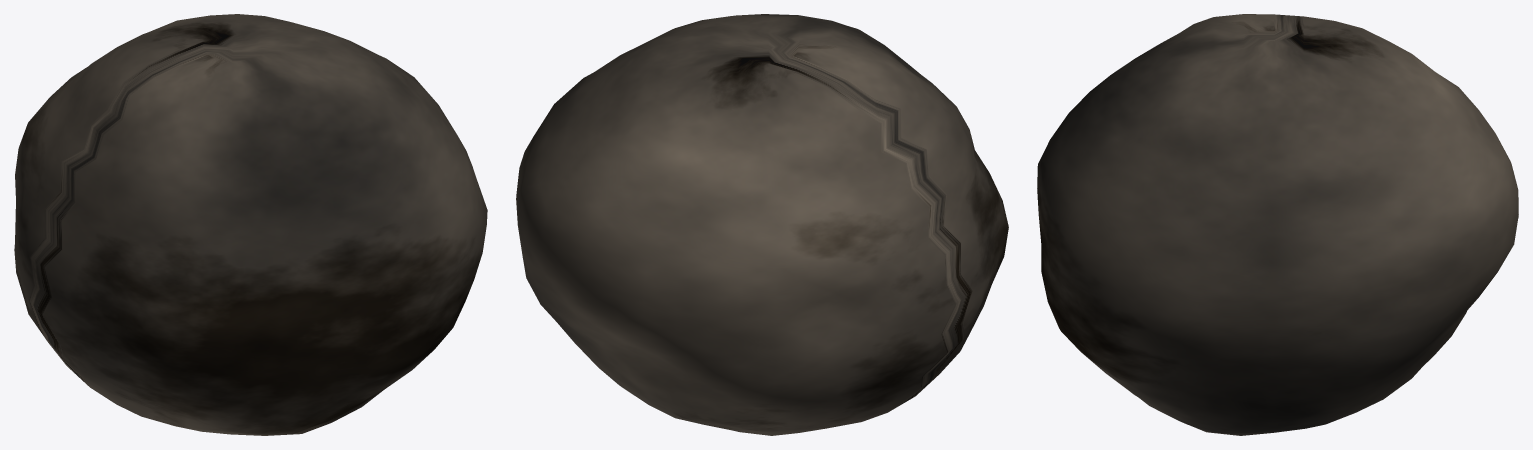
Rendered from rock_b.glb.
3 renders of one model, left to right at view 1: azimuth 30°, elevation 25°; view 2: azimuth 150°, elevation 25°; view 3: azimuth 270°, elevation 25°, orthographic. The views are drawn at different scales.
Parts seen in each view (by area): view 1: rock; view 2: rock; view 3: rock.
Part boxes in pixels (left/top/right/bottom): rock: left=14, top=14, right=487, bottom=435; rock: left=516, top=14, right=1008, bottom=435; rock: left=1037, top=14, right=1518, bottom=435.
Bounding box in the file's own units: 2.04 × 1.74 × 2.08.
1 material, 1 textured.
